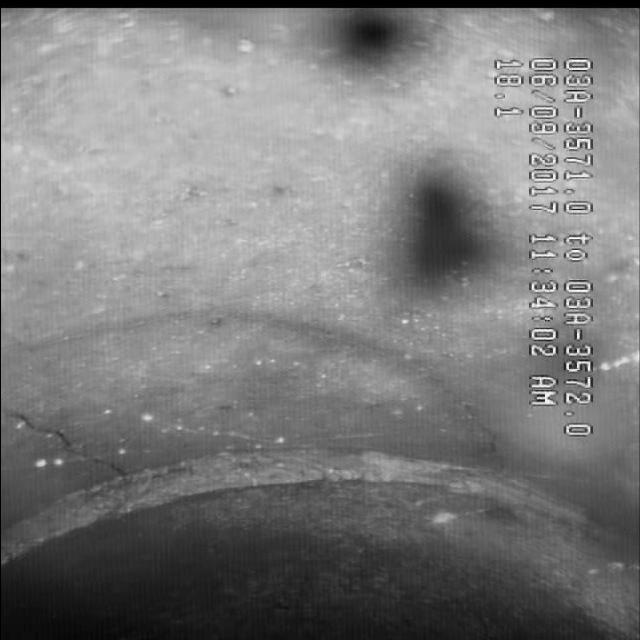Crack: (2, 389, 140, 493)
